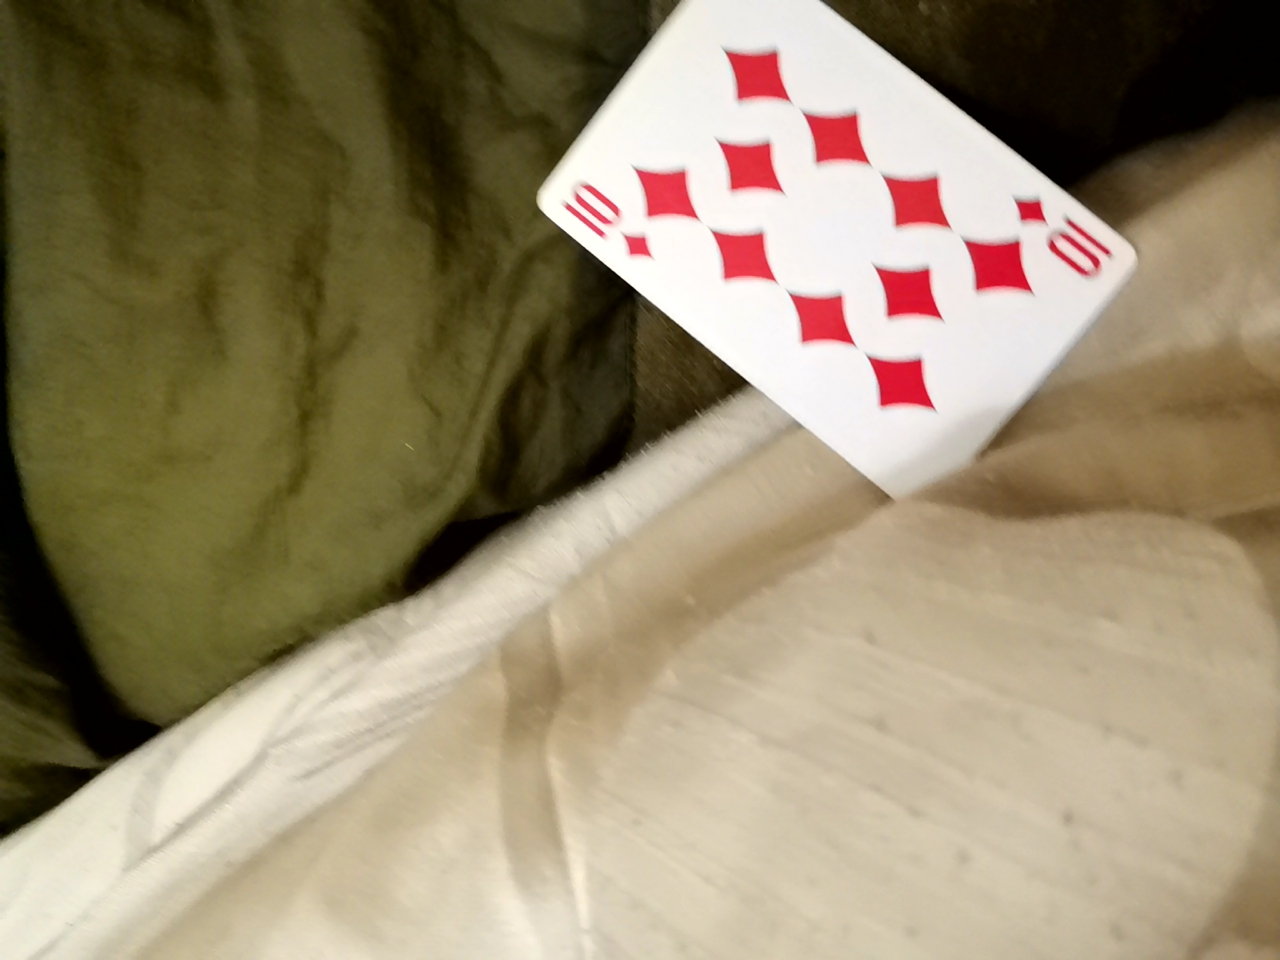fk 10: (487, 2, 1111, 480)
